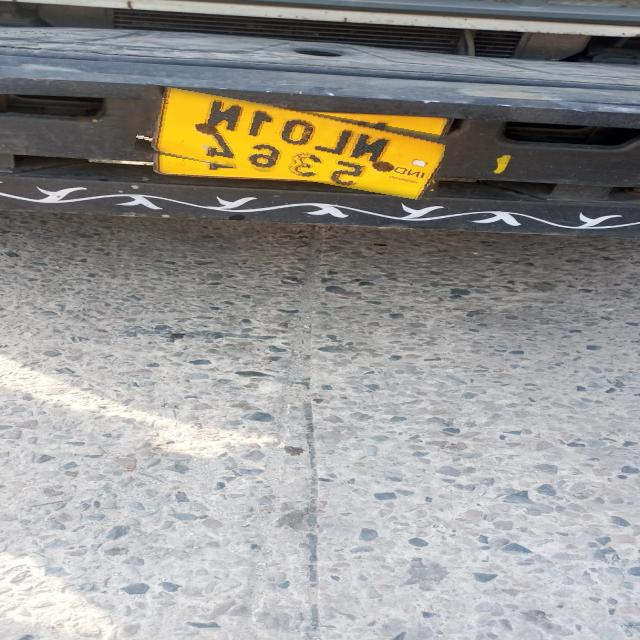License-plate: (135, 96, 445, 190)
